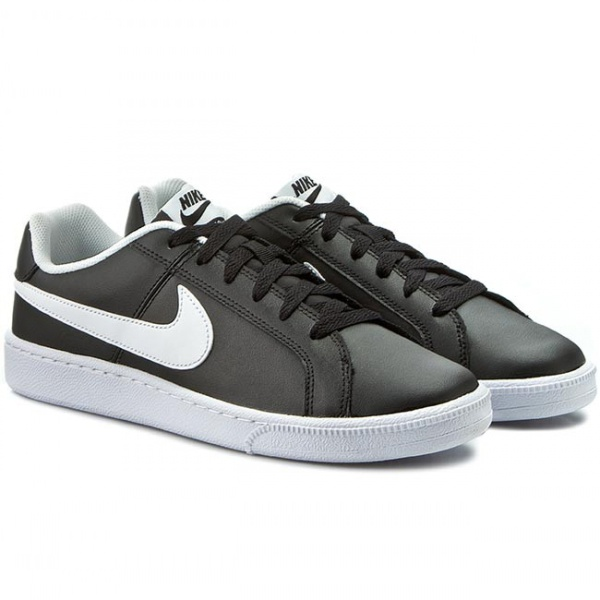nike: (29, 276, 217, 373)
